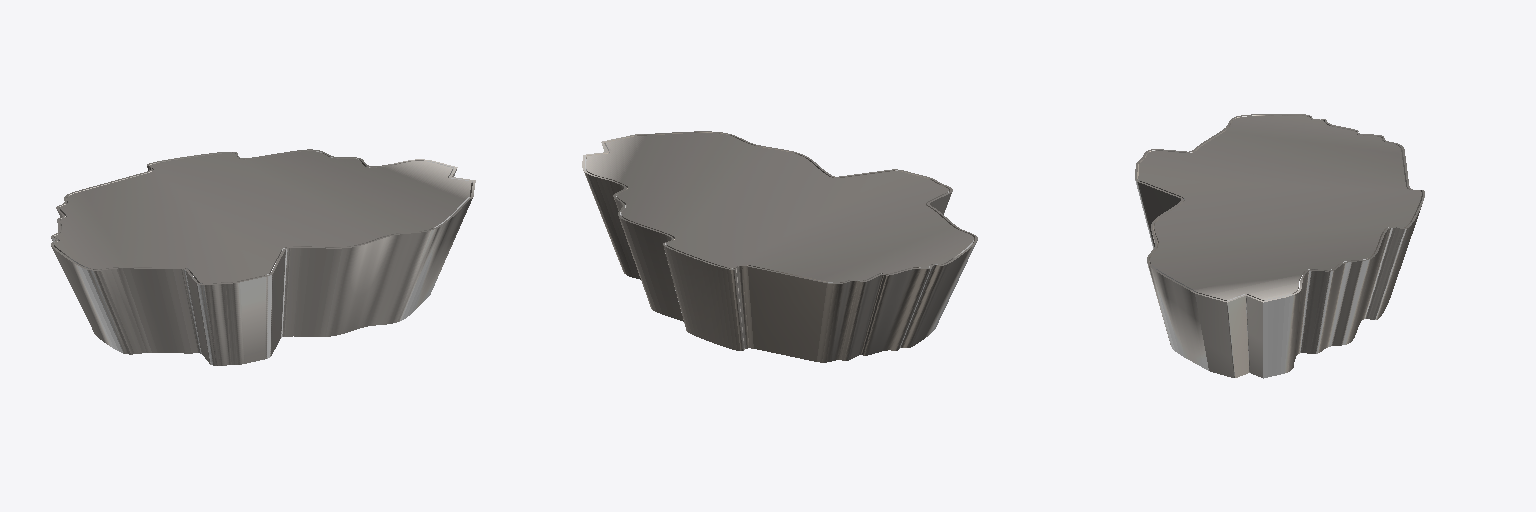
The picture shows the model from 3 angles: view 1: azimuth 30°, elevation 25°; view 2: azimuth 150°, elevation 25°; view 3: azimuth 270°, elevation 25°; orthographic projection.
Parts seen in each view (by area): view 1: solid_001; view 2: solid_001; view 3: solid_001.
Part boxes in pixels (left/top/right/bottom): solid_001: left=51, top=149, right=475, bottom=365; solid_001: left=582, top=131, right=977, bottom=362; solid_001: left=1135, top=114, right=1424, bottom=378.
Size of the model in its own units: 1.7 by 0.401 by 1.1.
Materials: 1 (1 with a texture image).